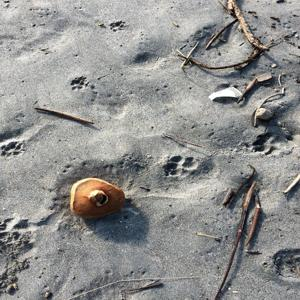plastic: (206, 80, 242, 111)
